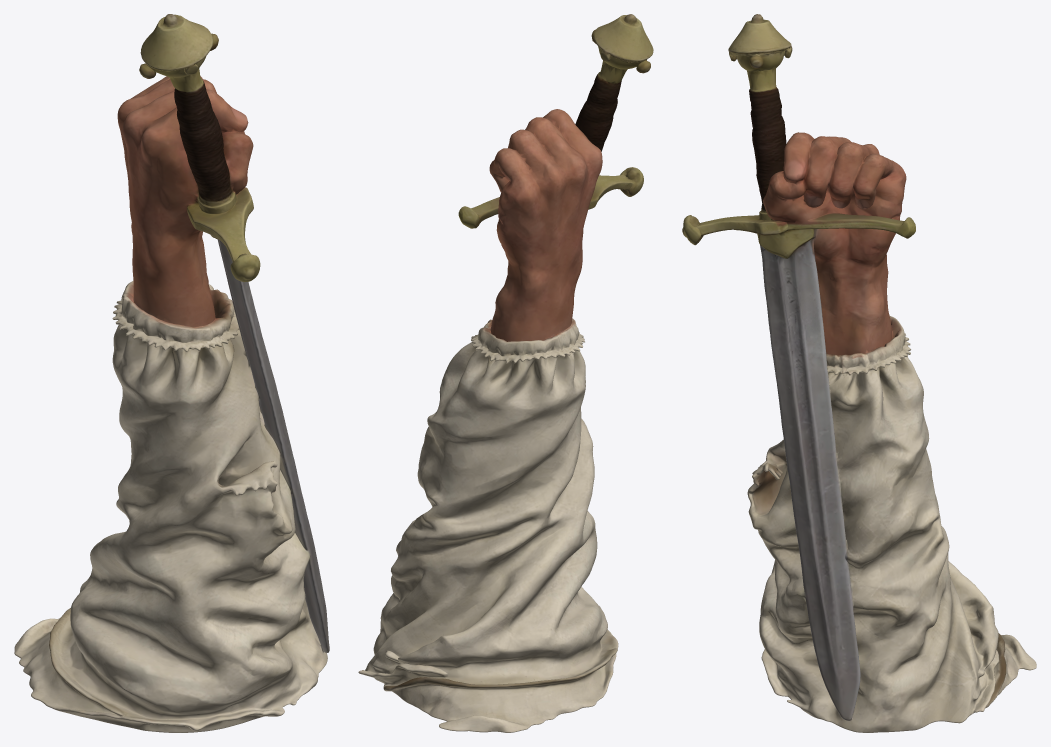
The picture shows the model from 3 angles, left to right: view 1: azimuth 30°, elevation 25°; view 2: azimuth 150°, elevation 25°; view 3: azimuth 270°, elevation 25°; orthographic projection. The views are drawn at different scales.
Parts seen in each view (by area): view 1: tripo_node_7cf6adaf-b8c7-4cfb-8fdf-46e6d73a7aad; view 2: tripo_node_7cf6adaf-b8c7-4cfb-8fdf-46e6d73a7aad; view 3: tripo_node_7cf6adaf-b8c7-4cfb-8fdf-46e6d73a7aad.
Boxes of the visible parts, x1=… form: tripo_node_7cf6adaf-b8c7-4cfb-8fdf-46e6d73a7aad: x1=14, y1=14, x2=329, y2=732; tripo_node_7cf6adaf-b8c7-4cfb-8fdf-46e6d73a7aad: x1=358, y1=14, x2=653, y2=732; tripo_node_7cf6adaf-b8c7-4cfb-8fdf-46e6d73a7aad: x1=682, y1=14, x2=1036, y2=732.
Size of the model in its own units: 0.3766 by 1 by 0.511.
Materials: 1 (1 with a texture image).
